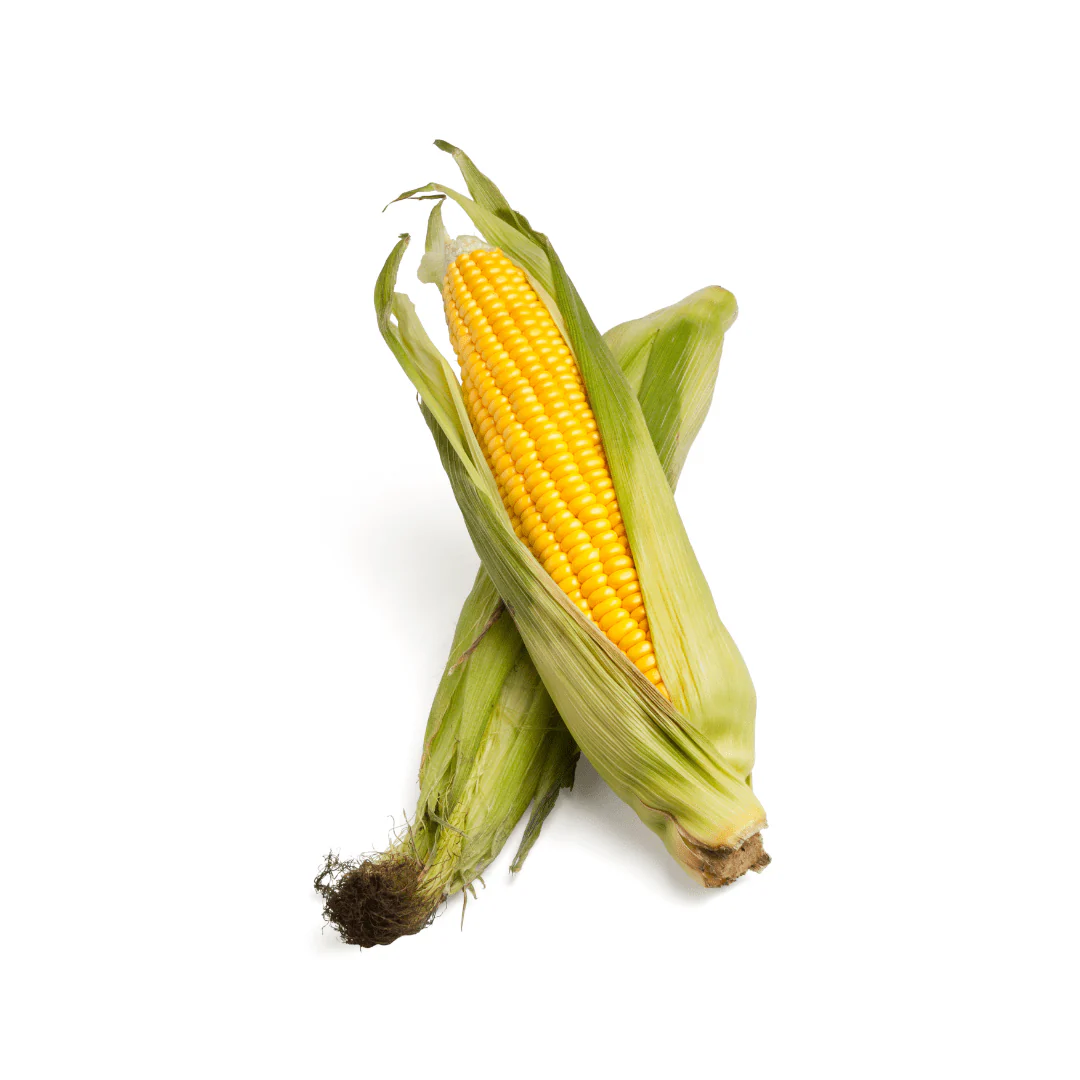corn: (296, 110, 864, 921)
